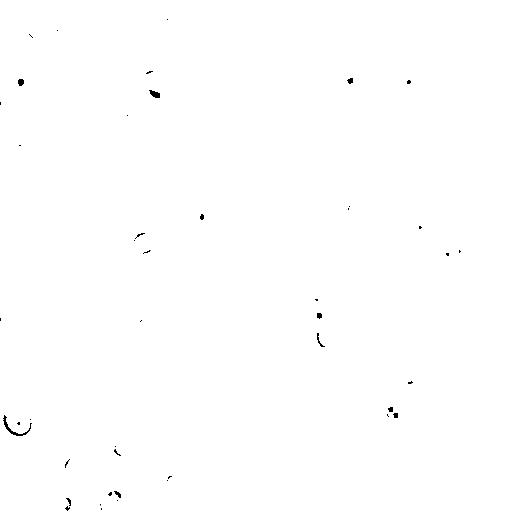micro-algae: (229, 391, 330, 494), (147, 12, 213, 83), (183, 194, 217, 233), (409, 205, 445, 240), (435, 231, 471, 266), (375, 393, 411, 427), (337, 65, 369, 97), (1, 403, 33, 435), (285, 401, 313, 436), (391, 366, 423, 394), (221, 367, 252, 395), (393, 69, 422, 96), (215, 113, 241, 143), (433, 1, 473, 20), (68, 7, 91, 38), (227, 83, 255, 108), (8, 69, 34, 95), (281, 341, 307, 367), (132, 229, 158, 254), (302, 288, 327, 314), (413, 399, 439, 424), (409, 42, 433, 69), (305, 303, 330, 328), (163, 468, 186, 495), (399, 291, 427, 313), (143, 69, 167, 93), (63, 451, 87, 475), (111, 432, 134, 457), (96, 469, 120, 492), (145, 13, 170, 35), (125, 99, 146, 123), (315, 325, 335, 349), (120, 486, 146, 504), (347, 199, 366, 223), (6, 128, 24, 153), (87, 383, 108, 404), (26, 17, 44, 41), (103, 487, 121, 509), (13, 211, 33, 229), (51, 495, 74, 510), (129, 306, 147, 324), (0, 102, 14, 125), (19, 187, 37, 202), (83, 497, 102, 511), (57, 22, 71, 38)
